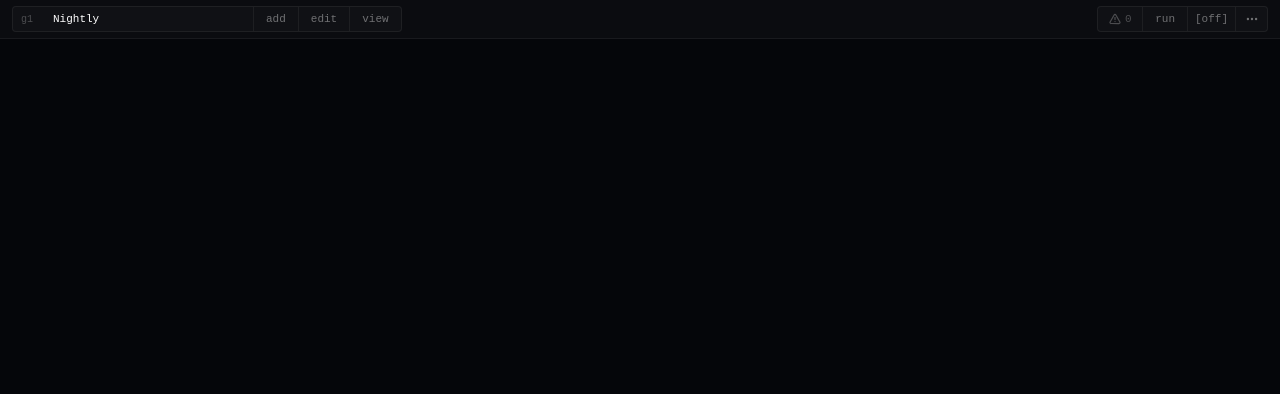
Test: the edit menu › disables the rows that have nothing to act on
The image size is (1280, 394).
Click the button "edit". click: x=324, y=19
box: [299, 7, 349, 31]
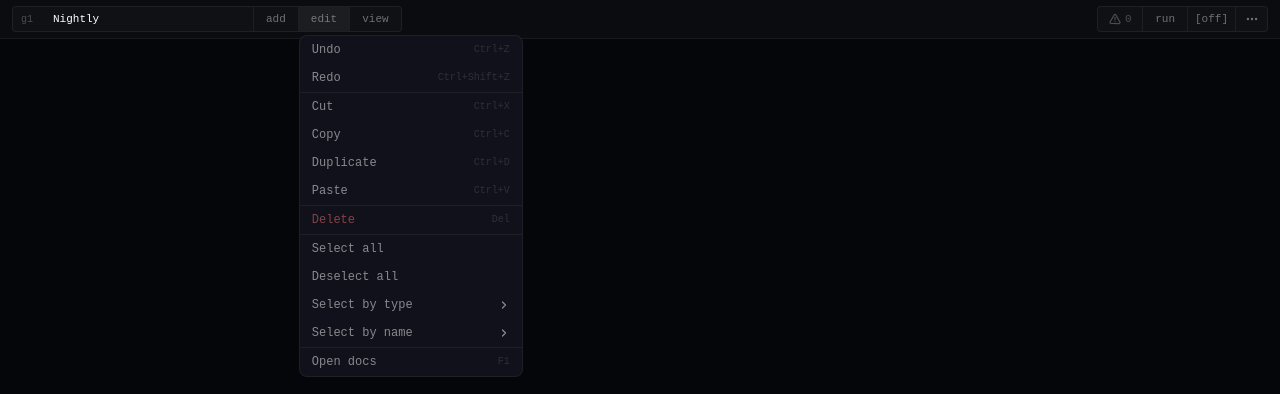
Check: the button "Undo Ctrl+Z" is disabled, box [300, 36, 522, 64]
Check: the button "Redo Ctrl+Shift+Z" is disabled, box [300, 64, 522, 92]
Check: the button "Cut Ctrl+X" is disabled, box [300, 93, 522, 121]
